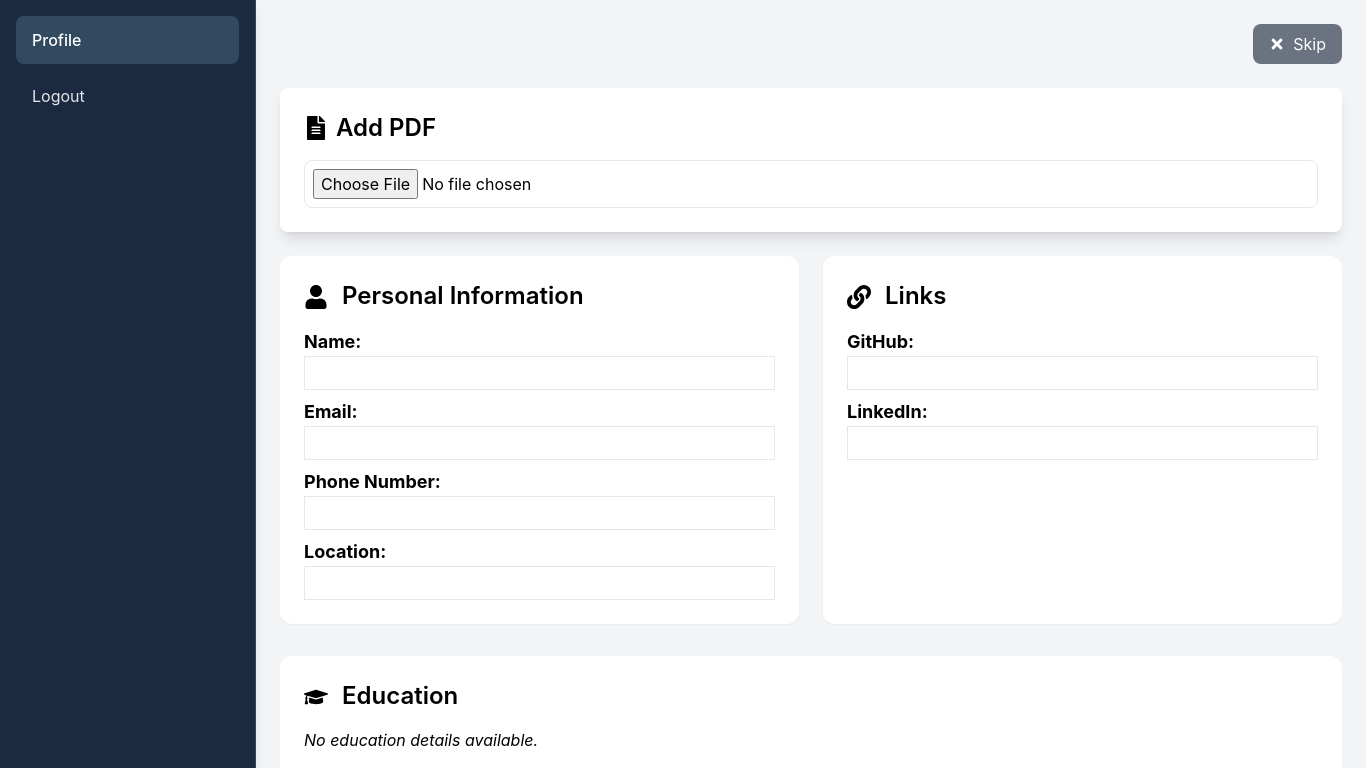
Test: AddDetails Component › shows confirmation modal when skip button is clicked
Step 1. Click the button "Skip" → (1298, 44), box [1253,24,1342,64]
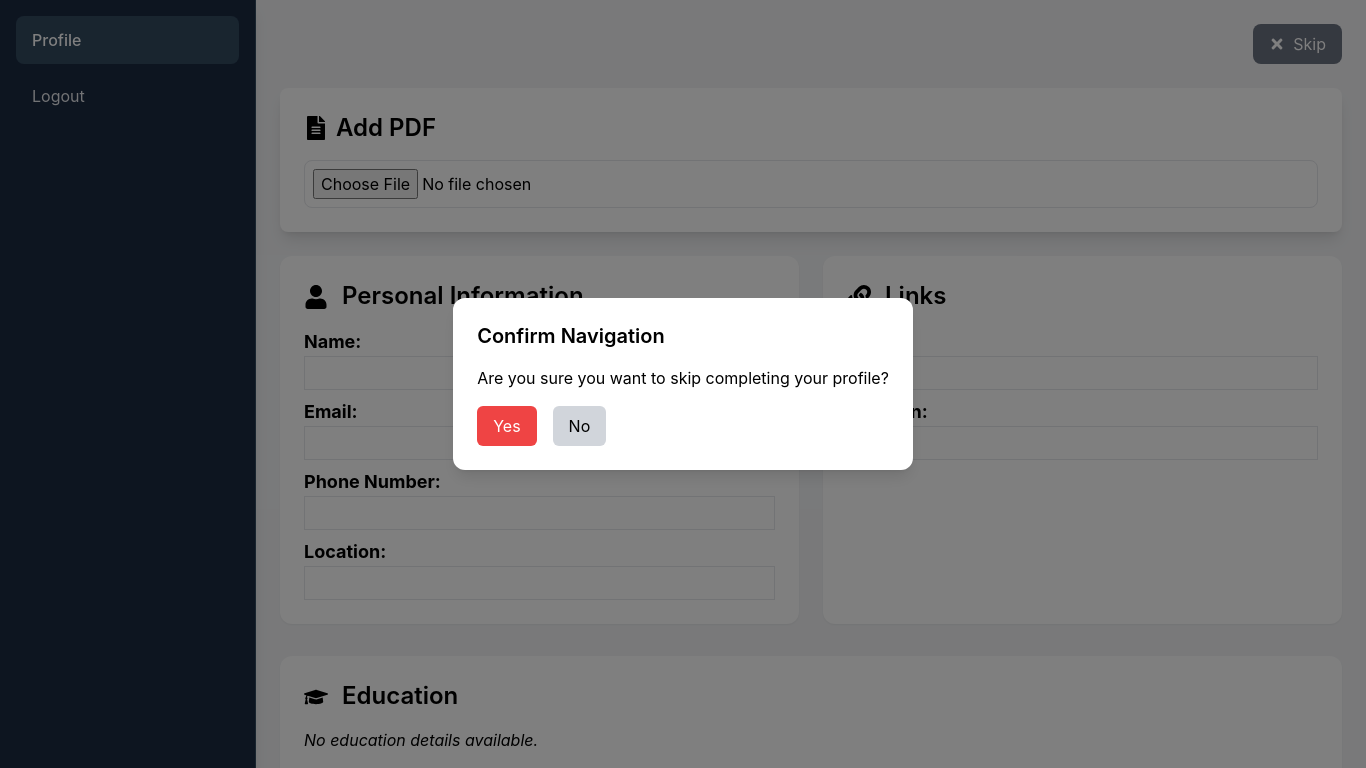
Now the text "Are you sure you want to skip completing your profile?" is shown, box [477,366,889,390]
Now the button "Yes" is shown, box [477,406,537,446]
Now the button "No" is shown, box [553,406,606,446]
